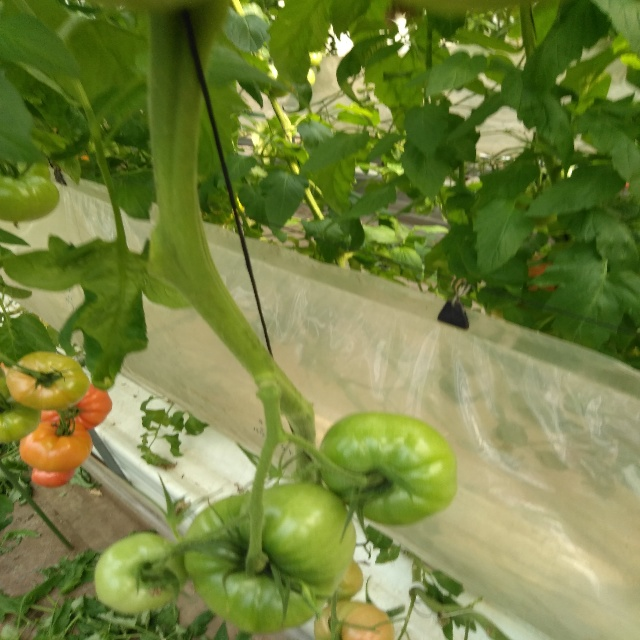b_green: (182, 482, 358, 633), (318, 411, 458, 527), (94, 534, 190, 615), (1, 175, 60, 222), (0, 377, 41, 442)
b_half_ripened: (6, 352, 89, 411), (20, 420, 93, 472), (40, 382, 113, 431), (313, 600, 394, 640), (325, 559, 364, 602), (31, 467, 76, 488)
